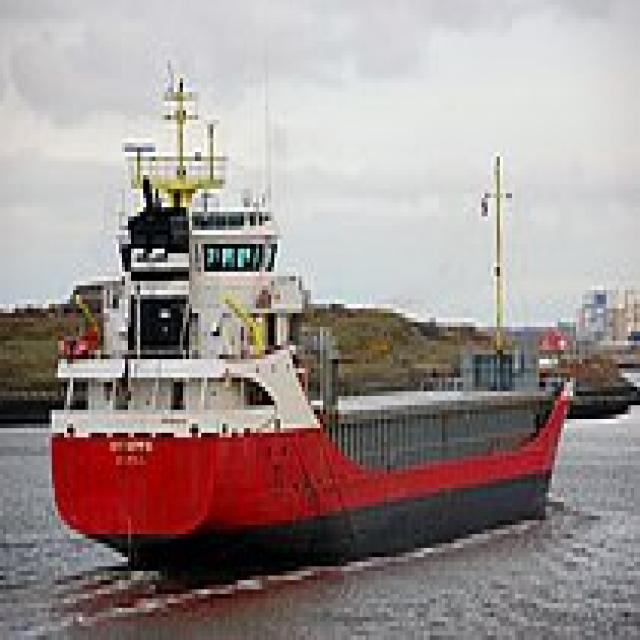Ship: (44, 52, 581, 596)
